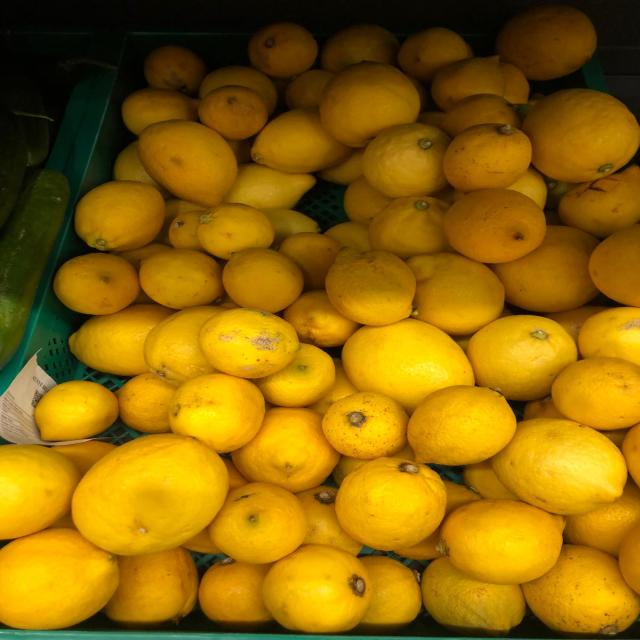lemon: (123, 111, 249, 209), (440, 489, 568, 585), (262, 541, 378, 640), (406, 377, 518, 473), (467, 305, 580, 399), (340, 453, 441, 549), (320, 243, 425, 329), (355, 113, 456, 202), (168, 369, 271, 453), (443, 113, 540, 195), (209, 243, 308, 315), (322, 390, 410, 455)
